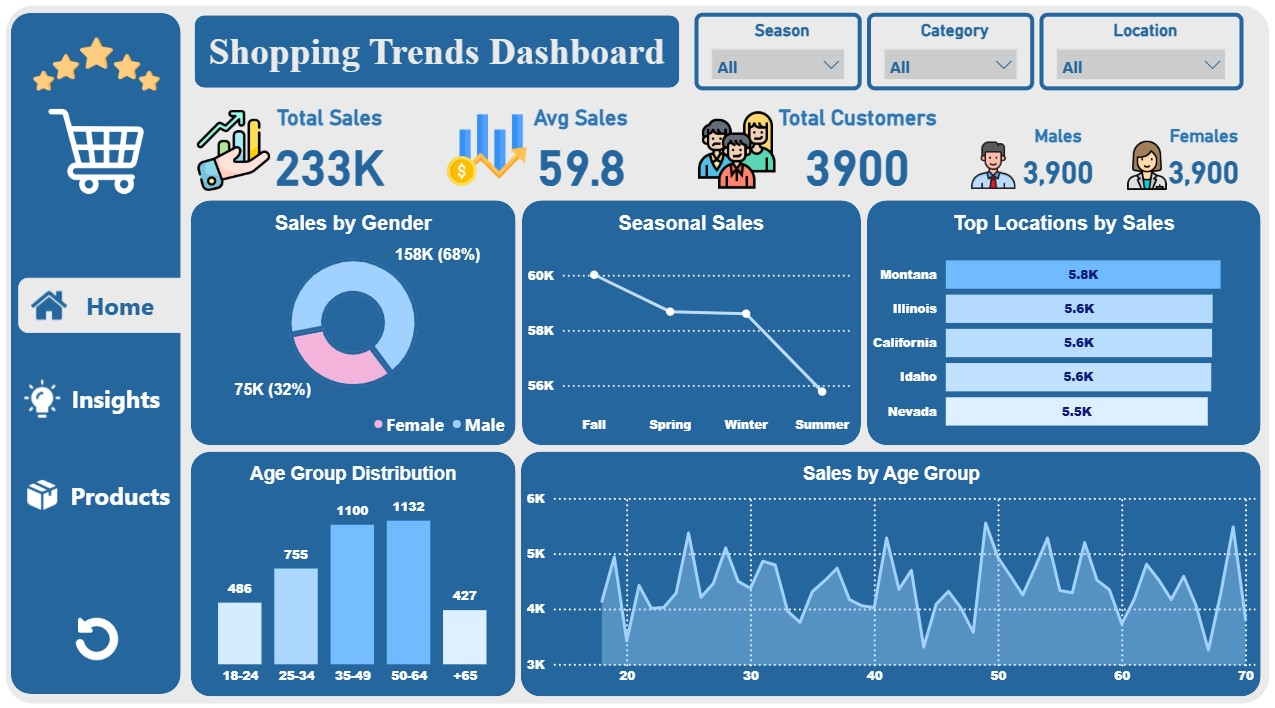

The page's visual inventory and layout, read from the dashboard file:
{"tool":"powerbi","page":{"name":"Home","canvas":[1280,720],"ordinal":0},"visuals":[{"type":"shape","box":[8.8,11.2,1263.8,698.8],"z":0},{"type":"shape","box":[13.8,18.8,170,681.2],"z":1000},{"type":"image","box":[27.5,105,142.5,105],"z":2000},{"type":"actionButton","title":"insights_default","box":[21.2,377.5,195,55],"z":3000},{"type":"actionButton","title":"products_default","box":[21.2,473.8,203.8,55],"z":4000},{"type":"actionButton","title":"home_selected","box":[21.2,283.8,203.8,55],"z":7000},{"type":"card","title":"Total Sales","fields":{"Values":["Sum(Sheet1.Purchase_Amount_USD)"]},"box":[247.6,111.8,170,90],"z":10000},{"type":"card","title":"Total Customers","fields":{"Values":["CountNonNull(Sheet1.Customer_ID)"]},"box":[760.2,111.2,201.2,90],"z":11000},{"type":"image","box":[191,111.3,90.5,90.5],"z":12000},{"type":"image","box":[695,111.2,90,90],"z":13000},{"type":"card","title":"Avg Sales","fields":{"Values":["Avg(Sheet1.Purchase_Amount_USD)"]},"box":[512.2,111.2,142.5,90],"z":14000},{"type":"shape","box":[525,206.2,339,245],"z":15000},{"type":"lineChart","title":"Seasonal Sales","fields":{"Y":["Sum(Sheet1.Purchase_Amount_USD)"],"Category":["Sheet1.Season"]},"box":[525,217.5,338.8,233.8],"z":16000},{"type":"shape","box":[870,206.2,393.8,245],"z":17000},{"type":"shape","box":[193.8,457.5,325,245],"z":18000},{"type":"shape","box":[523.8,457.5,740,245],"z":19000},{"type":"barChart","title":"Top Locations by Sales","fields":{"Category":["Sheet1.Location"],"Y":["Sum(Sheet1.Purchase_Amount_USD)"]},"box":[870,217.5,393.8,233.8],"z":20000},{"type":"columnChart","title":"Age Group Distribution","fields":{"Category":["Sheet1.Age_Group"],"Y":["Count(Sheet1.Customer_ID)"]},"box":[193.8,468.8,325,233.8],"z":21000},{"type":"image","box":[8.8,0,181.2,140],"z":22000},{"type":"image","box":[70,615,60,60],"z":23000},{"type":"shape","box":[197.5,21.2,485,72.5],"z":25000},{"type":"textbox","box":[197.5,31.2,485,63.8],"z":26000},{"type":"stackedAreaChart","title":"Sales by Age Group","fields":{"Category":["Sheet1.Age"],"Y":["Sum(Sheet1.Purchase_Amount_USD)"]},"box":[525,468.8,738.8,233.8],"z":27000},{"type":"image","box":[445,111.2,90,90],"z":28000},{"type":"card","title":"Males","fields":{"Values":["CountNonNull(Sheet1.Customer_ID)"]},"box":[1008.5,131.2,105,70],"z":29000},{"type":"card","title":"Females","fields":{"Values":["CountNonNull(Sheet1.Customer_ID)"]},"box":[1157.7,131.2,98.8,70],"z":30000},{"type":"image","box":[966,141.2,60,60],"z":31000},{"type":"image","box":[1120.2,141.2,60,60],"z":32000},{"type":"shape","box":[193.8,206.2,325,245],"z":33000},{"type":"donutChart","title":"Sales by Gender","fields":{"Category":["Sheet1.Gender"],"Y":["Sum(Sheet1.Purchase_Amount_USD)"]},"box":[193.8,217.5,325,233.8],"z":34000},{"type":"slicer","title":"Season","fields":{"Values":["Sheet1.Season"]},"box":[697.5,18.8,167.5,77.5],"z":35000},{"type":"slicer","title":"Category","fields":{"Values":["Sheet1.Category"]},"box":[869.7,18.8,167.5,77.5],"z":36000},{"type":"slicer","title":"Location","fields":{"Values":["Sheet1.Location"]},"box":[1042.2,18.8,203.8,77.5],"z":37000}]}

Visuals, with their boxes in screenshot pixels (x1, y1, x2, y2), scaled from the page's 1280x720 canvas onto the 1275x708 screenshot:
shape: {"x1": 9, "y1": 11, "x2": 1268, "y2": 698}
shape: {"x1": 14, "y1": 18, "x2": 183, "y2": 688}
image: {"x1": 27, "y1": 103, "x2": 169, "y2": 206}
"insights_default" actionButton: {"x1": 21, "y1": 371, "x2": 215, "y2": 425}
"products_default" actionButton: {"x1": 21, "y1": 466, "x2": 224, "y2": 520}
"home_selected" actionButton: {"x1": 21, "y1": 279, "x2": 224, "y2": 333}
"Total Sales" card: {"x1": 247, "y1": 110, "x2": 416, "y2": 198}
"Total Customers" card: {"x1": 757, "y1": 109, "x2": 958, "y2": 198}
image: {"x1": 190, "y1": 109, "x2": 280, "y2": 198}
image: {"x1": 692, "y1": 109, "x2": 782, "y2": 198}
"Avg Sales" card: {"x1": 510, "y1": 109, "x2": 652, "y2": 198}
shape: {"x1": 523, "y1": 203, "x2": 861, "y2": 444}
"Seasonal Sales" lineChart: {"x1": 523, "y1": 214, "x2": 860, "y2": 444}
shape: {"x1": 867, "y1": 203, "x2": 1259, "y2": 444}
shape: {"x1": 193, "y1": 450, "x2": 517, "y2": 691}
shape: {"x1": 522, "y1": 450, "x2": 1259, "y2": 691}
"Top Locations by Sales" barChart: {"x1": 867, "y1": 214, "x2": 1259, "y2": 444}
"Age Group Distribution" columnChart: {"x1": 193, "y1": 461, "x2": 517, "y2": 691}
image: {"x1": 9, "y1": 0, "x2": 189, "y2": 138}
image: {"x1": 70, "y1": 605, "x2": 129, "y2": 664}
shape: {"x1": 197, "y1": 21, "x2": 680, "y2": 92}
textbox: {"x1": 197, "y1": 31, "x2": 680, "y2": 93}
"Sales by Age Group" stackedAreaChart: {"x1": 523, "y1": 461, "x2": 1259, "y2": 691}
image: {"x1": 443, "y1": 109, "x2": 533, "y2": 198}
"Males" card: {"x1": 1005, "y1": 129, "x2": 1109, "y2": 198}
"Females" card: {"x1": 1153, "y1": 129, "x2": 1252, "y2": 198}
image: {"x1": 962, "y1": 139, "x2": 1022, "y2": 198}
image: {"x1": 1116, "y1": 139, "x2": 1176, "y2": 198}
shape: {"x1": 193, "y1": 203, "x2": 517, "y2": 444}
"Sales by Gender" donutChart: {"x1": 193, "y1": 214, "x2": 517, "y2": 444}
"Season" slicer: {"x1": 695, "y1": 18, "x2": 862, "y2": 95}
"Category" slicer: {"x1": 866, "y1": 18, "x2": 1033, "y2": 95}
"Location" slicer: {"x1": 1038, "y1": 18, "x2": 1241, "y2": 95}
